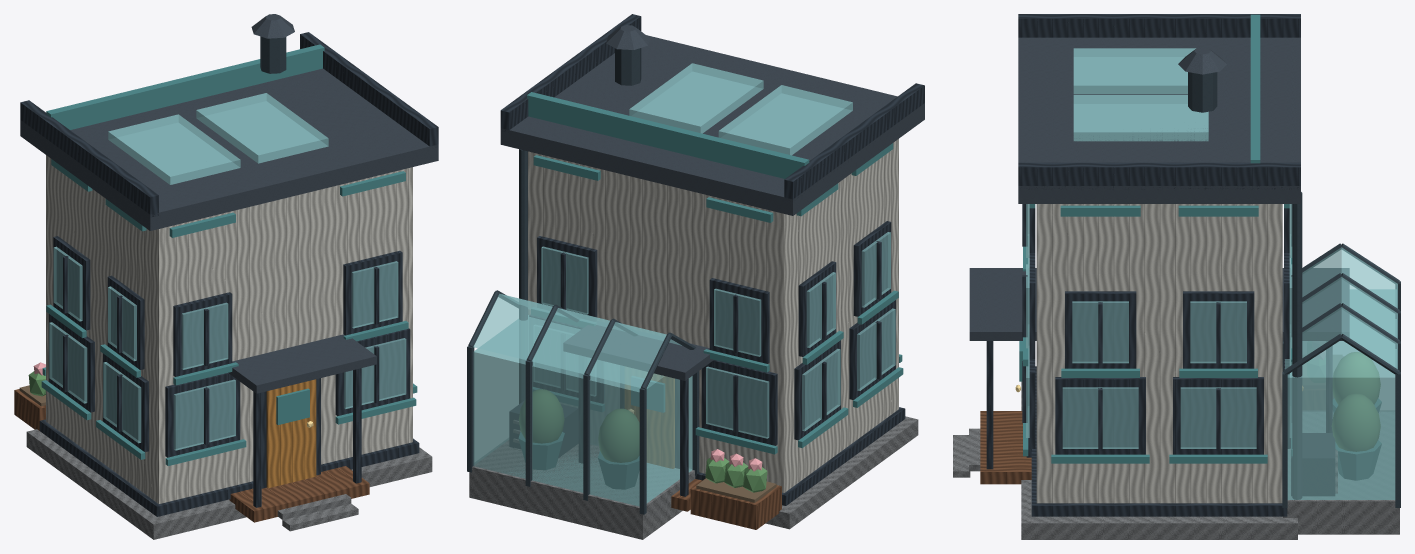
Rendered from house_modern_lv3_greenhouse.glb.
3 renders of one model, left to right at view 1: azimuth 30°, elevation 25°; view 2: azimuth 150°, elevation 25°; view 3: azimuth 270°, elevation 25°, orthographic. The views are drawn at different scales.
Parts seen in each view (by area): view 1: walls, flat_roof, foundation, roof_terrace, solar_panel, solar_panel.001, front_window_frame, front_porch_canopy, front_door, floor_trim, front_window_frame.003, front_window_frame.002 (+33 smaller); view 2: walls, greenhouse_glazing, flat_roof, greenhouse_roof, greenhouse_plinth, roof_terrace, solar_panel, solar_panel.001, back_window_frame, back_porch_canopy, back_window_frame.002, parapet (+42 smaller); view 3: walls, flat_roof, greenhouse_glazing, greenhouse_roof, foundation, parapet.001, right_window_frame, right_window_frame.001, parapet, solar_panel.001, solar_panel, right_window_frame.002 (+32 smaller).
Boxes of the visible parts, x1,y1,x2,y2 form: walls: [46, 155, 412, 503]; flat_roof: [20, 68, 438, 230]; foundation: [26, 429, 432, 539]; roof_terrace: [46, 44, 324, 129]; solar_panel: [108, 114, 240, 184]; solar_panel.001: [196, 93, 328, 163]; front_window_frame: [165, 373, 240, 457]; front_porch_canopy: [228, 334, 376, 393]; front_door: [266, 379, 316, 488]; floor_trim: [39, 419, 419, 516]; front_window_frame.003: [343, 250, 402, 335]; front_window_frame.002: [173, 292, 232, 376]; walls: [528, 139, 898, 492]; greenhouse_glazing: [473, 315, 692, 506]; flat_roof: [500, 35, 924, 215]; greenhouse_roof: [473, 293, 681, 387]; greenhouse_plinth: [469, 440, 695, 539]; roof_terrace: [527, 92, 809, 178]; solar_panel: [718, 85, 852, 155]; solar_panel.001: [629, 63, 763, 133]; back_window_frame: [701, 360, 777, 445]; back_porch_canopy: [563, 325, 713, 380]; back_window_frame.002: [709, 278, 769, 363]; parapet: [784, 83, 924, 200]; walls: [1036, 204, 1282, 503]; flat_roof: [1018, 37, 1300, 203]; greenhouse_glazing: [1287, 289, 1396, 499]; greenhouse_roof: [1285, 247, 1397, 369]; foundation: [1021, 381, 1297, 539]; parapet.001: [1018, 162, 1300, 189]; right_window_frame: [1055, 377, 1145, 454]; right_window_frame.001: [1173, 377, 1263, 454]; parapet: [1018, 14, 1300, 37]; solar_panel.001: [1073, 95, 1208, 141]; solar_panel: [1073, 48, 1195, 94]; right_window_frame.002: [1065, 291, 1136, 368].
Bounding box in the file's own units: 2.95 × 4.03 × 3.64.
13 materials, 7 textured.
